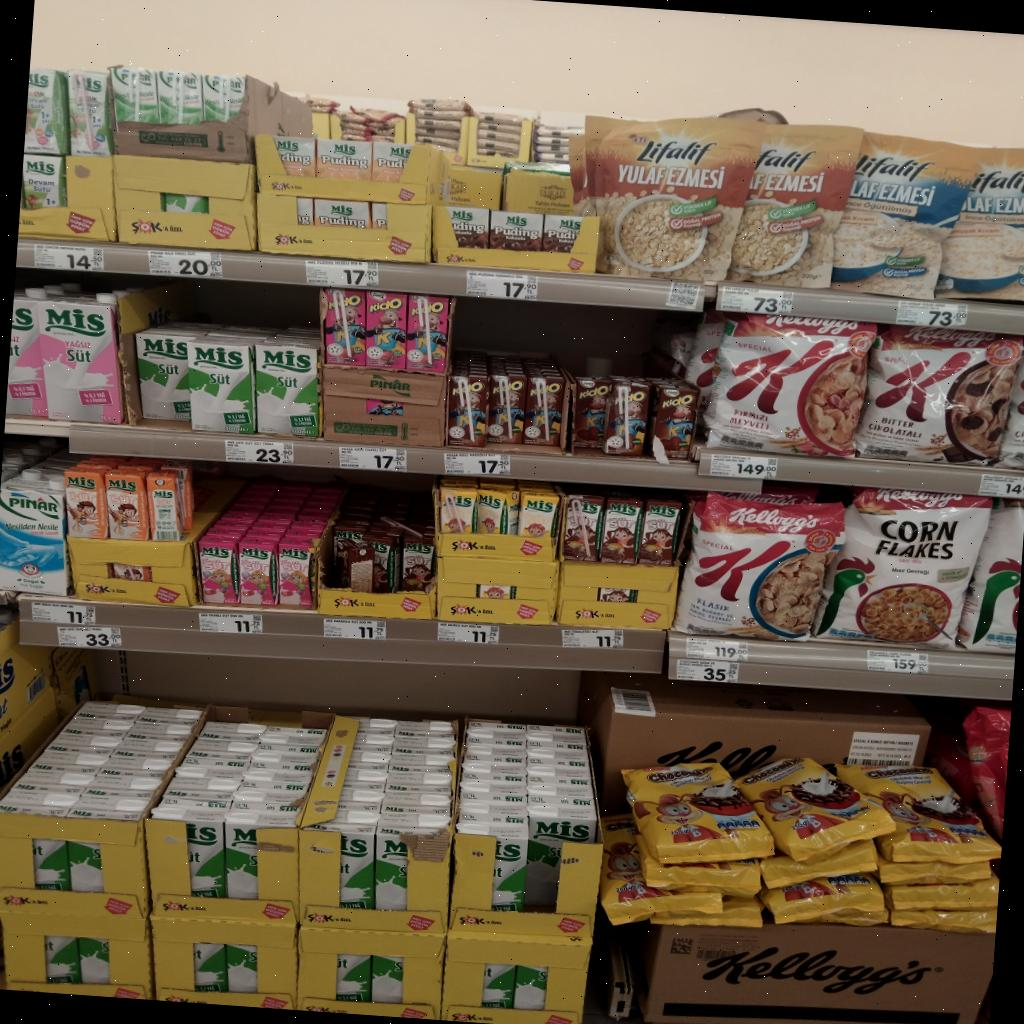price_tag: (466, 270, 537, 300), (148, 250, 223, 278), (305, 260, 378, 288), (340, 447, 407, 472), (226, 440, 294, 464), (444, 452, 510, 476), (32, 602, 95, 625), (323, 618, 387, 640), (199, 612, 263, 634), (57, 627, 121, 649), (438, 622, 500, 644), (562, 628, 623, 648)
product: (28, 295, 123, 423), (0, 471, 70, 596), (255, 333, 321, 437), (135, 323, 204, 422), (189, 335, 256, 434), (647, 380, 699, 459), (447, 352, 490, 447), (6, 296, 40, 416), (24, 67, 70, 155), (67, 70, 114, 156), (602, 377, 650, 456), (322, 289, 368, 366), (488, 358, 527, 446), (406, 295, 450, 373), (637, 495, 683, 565), (524, 370, 566, 446), (65, 465, 108, 538), (366, 292, 407, 368), (105, 470, 149, 540), (572, 377, 611, 452), (198, 533, 239, 604), (238, 534, 277, 606), (563, 494, 604, 562), (600, 499, 643, 563), (278, 536, 316, 608), (112, 68, 159, 124), (157, 70, 204, 124), (21, 155, 67, 209), (335, 535, 375, 593), (316, 139, 372, 180), (489, 210, 543, 251), (148, 474, 181, 540), (365, 534, 401, 592), (202, 75, 245, 121), (401, 540, 436, 592), (440, 486, 476, 533), (314, 199, 370, 229), (447, 208, 489, 248), (518, 497, 558, 538), (274, 137, 315, 176), (543, 214, 583, 253), (372, 142, 411, 181), (475, 489, 508, 534), (334, 522, 367, 561), (296, 198, 313, 225), (371, 202, 388, 229)
